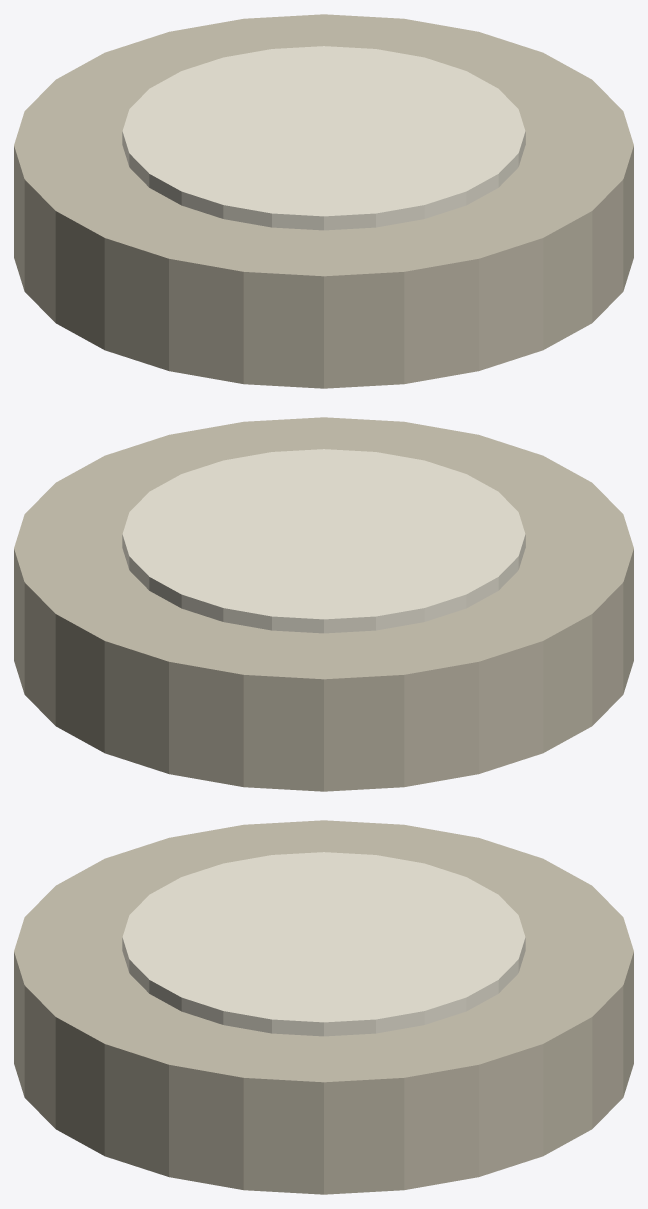
File: Item_OR_Chip_00.glb
The picture shows the model from 3 angles, top to bottom: view 1: azimuth 30°, elevation 25°; view 2: azimuth 150°, elevation 25°; view 3: azimuth 270°, elevation 25°; orthographic projection.
Visible parts, largest first — view 1: Item_OR_Chip_00; view 2: Item_OR_Chip_00; view 3: Item_OR_Chip_00.
Boxes of the visible parts, x1,y1,x2,y2 form: Item_OR_Chip_00: (14, 14, 633, 388); Item_OR_Chip_00: (14, 417, 633, 791); Item_OR_Chip_00: (14, 820, 633, 1194).
Size of the model in its own units: 0.04 by 0.009 by 0.04.
